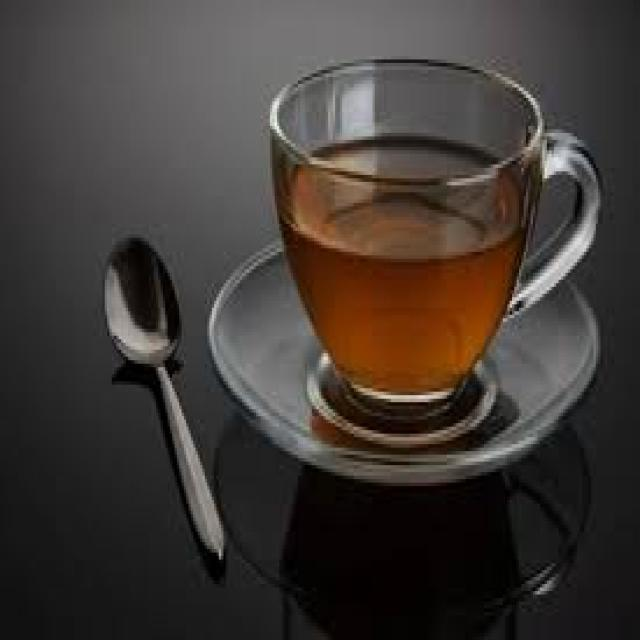taza: (257, 39, 611, 427)
